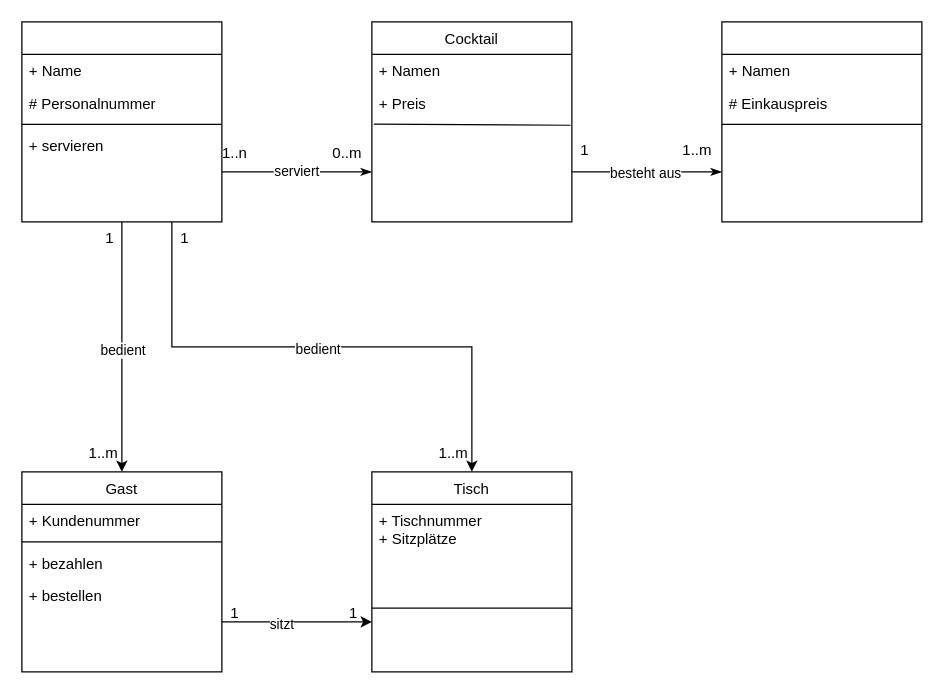
Image size: 944x694. Some labels were removed from this diagram. Each missing label, with the box of its shape:
Kellner: (21, 21, 222, 222)
Zutat: (721, 21, 922, 222)
